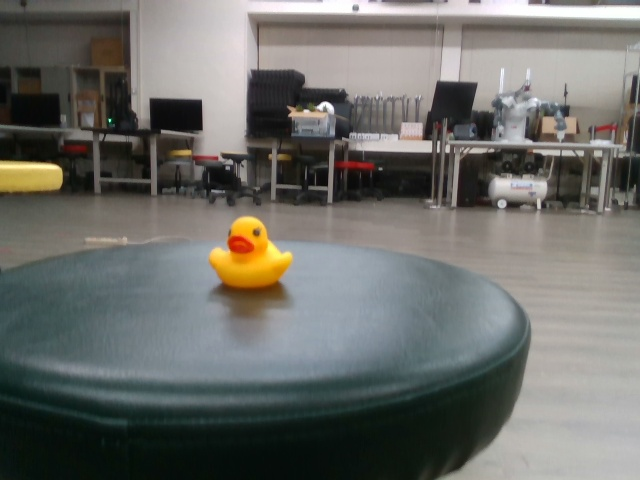duck: (206, 207, 297, 294)
